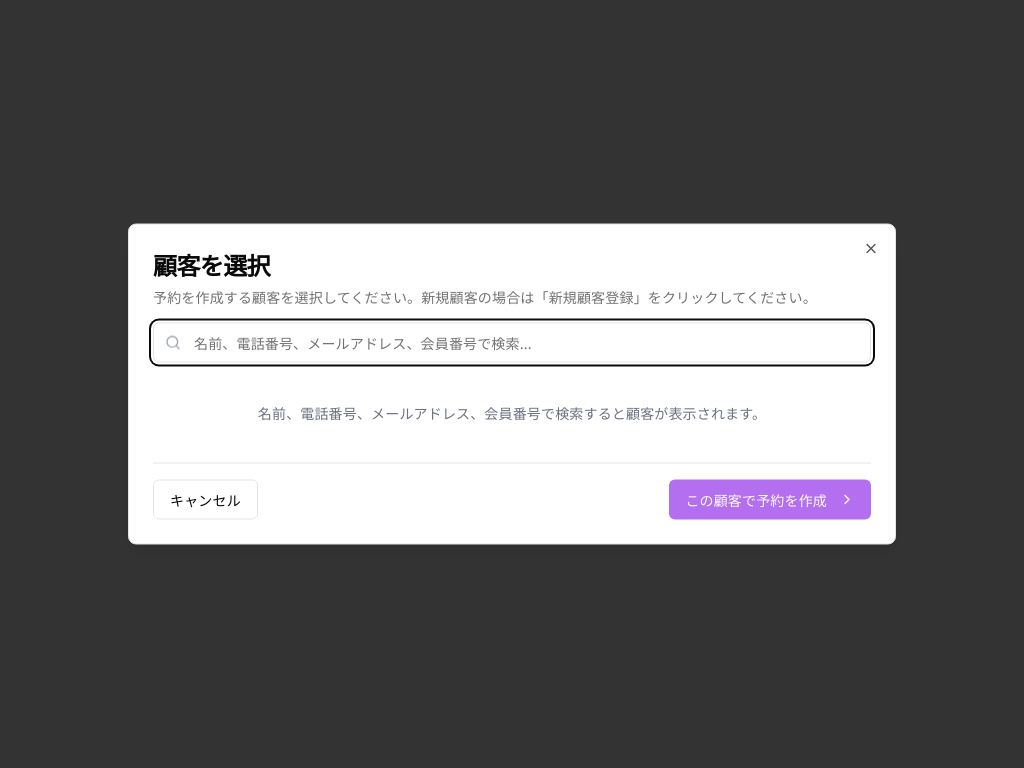
Scenario: CustomerSelectionDialog › does not load or list customers until a search finishes
The image size is (1024, 768).
Expected: the text "[確認用] 旧実名顧客" is not shown
Expected: the text "名前、電話番号、メールアドレス、会員番号で検索すると顧客が表示されます。" is shown, [258, 402, 766, 422]
Type "旧実名顧客" into the field with placeholder "名前、電話番号、メールアドレス、会員番号で検索...".
click(512, 342); type("旧実名顧客")  # box [153, 322, 871, 362]
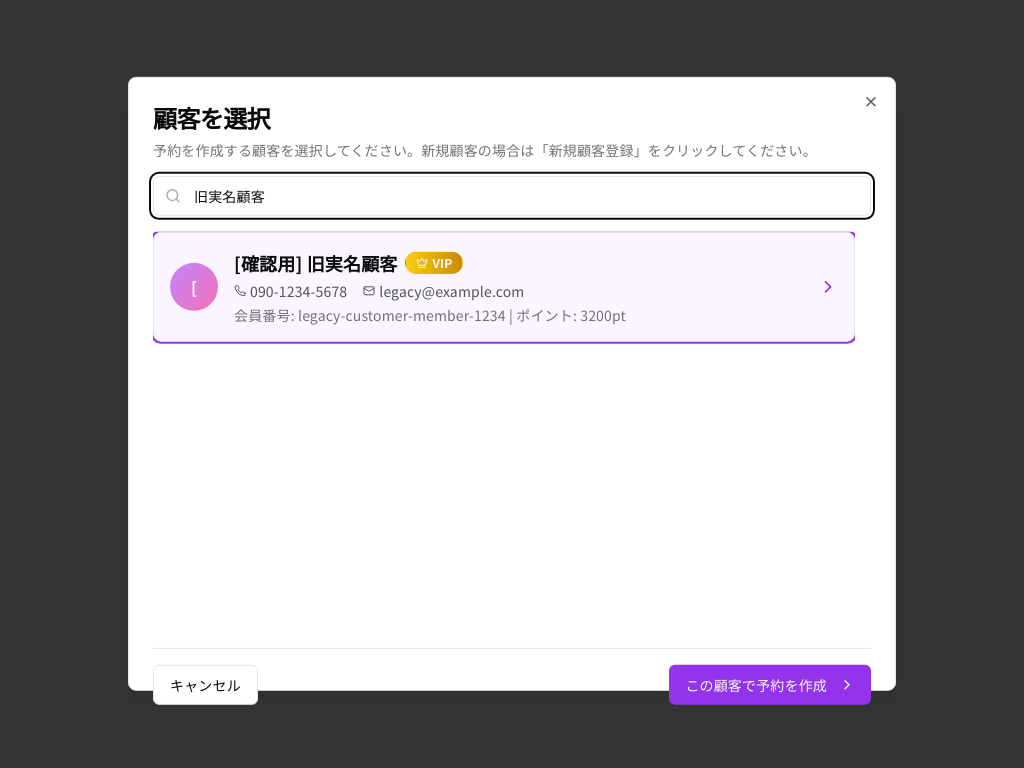
Now the heading "[確認用] 旧実名顧客" is shown, box [234, 249, 398, 277]
Now the text "090-1234-5678" is shown, box [234, 281, 347, 301]
